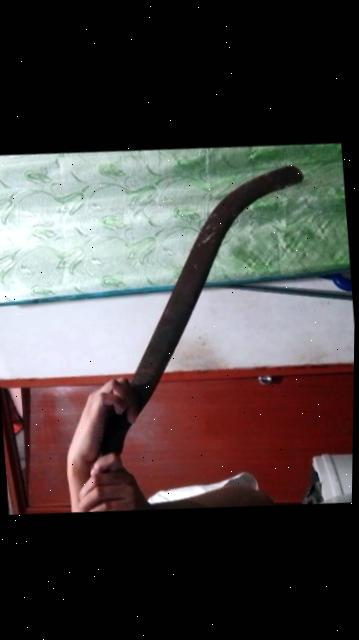long knife: (62, 137, 340, 507)
